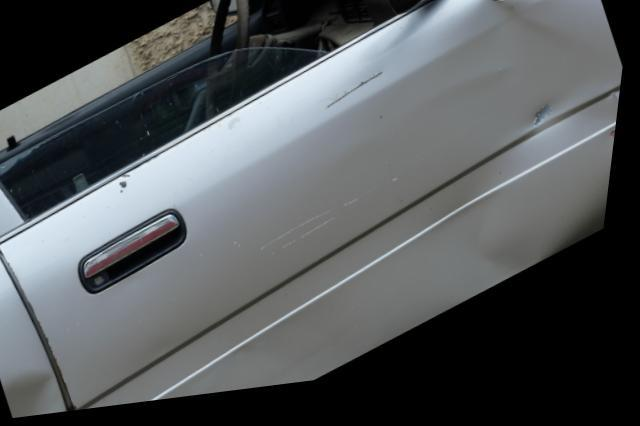dent: (144, 7, 626, 404), (12, 373, 73, 420)
